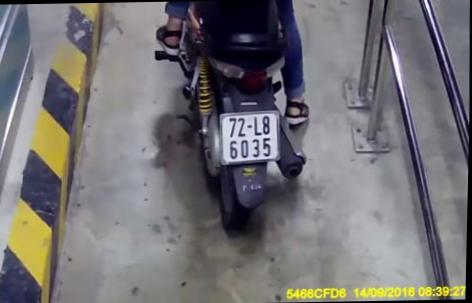LP: (221, 112, 282, 163)
